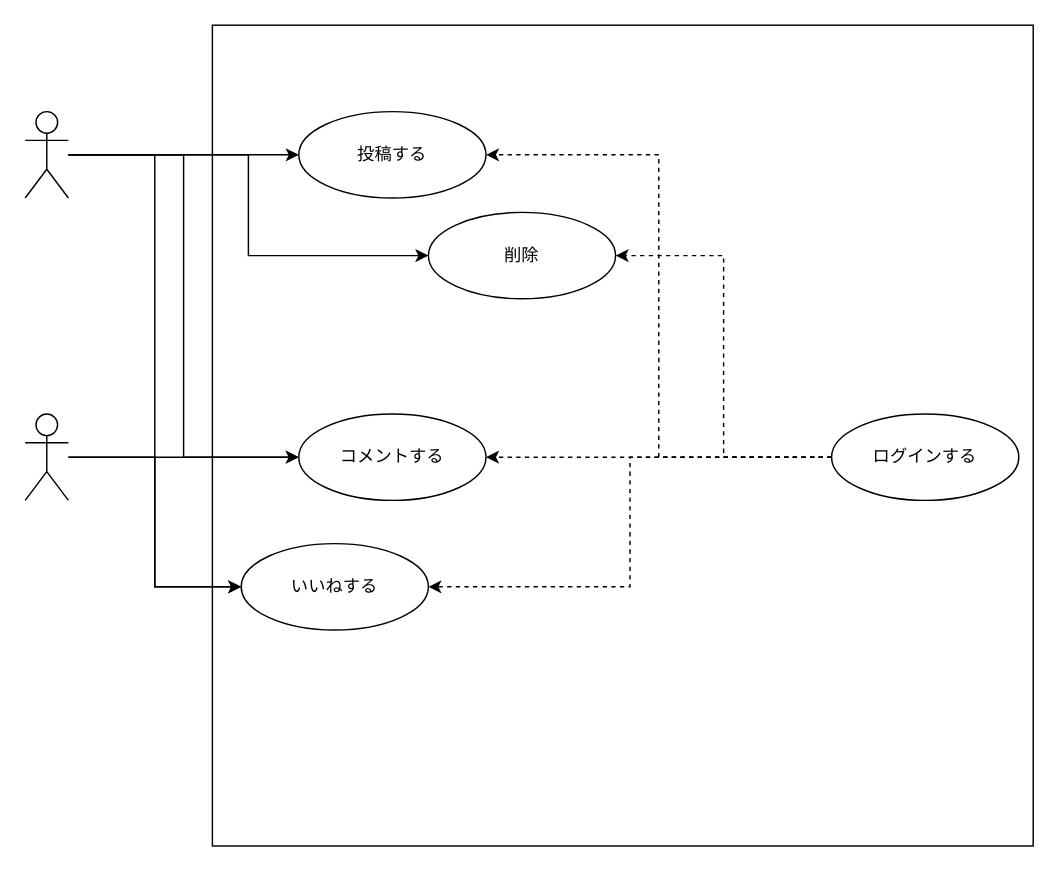
Some shapes in this 1058 by 883 pixel diagram are drawn without their labels. The box of each missing label's shape, as (x1, y1, x2, y2) in pixels:
My: (24, 110, 68, 198)
Other: (24, 413, 68, 500)
